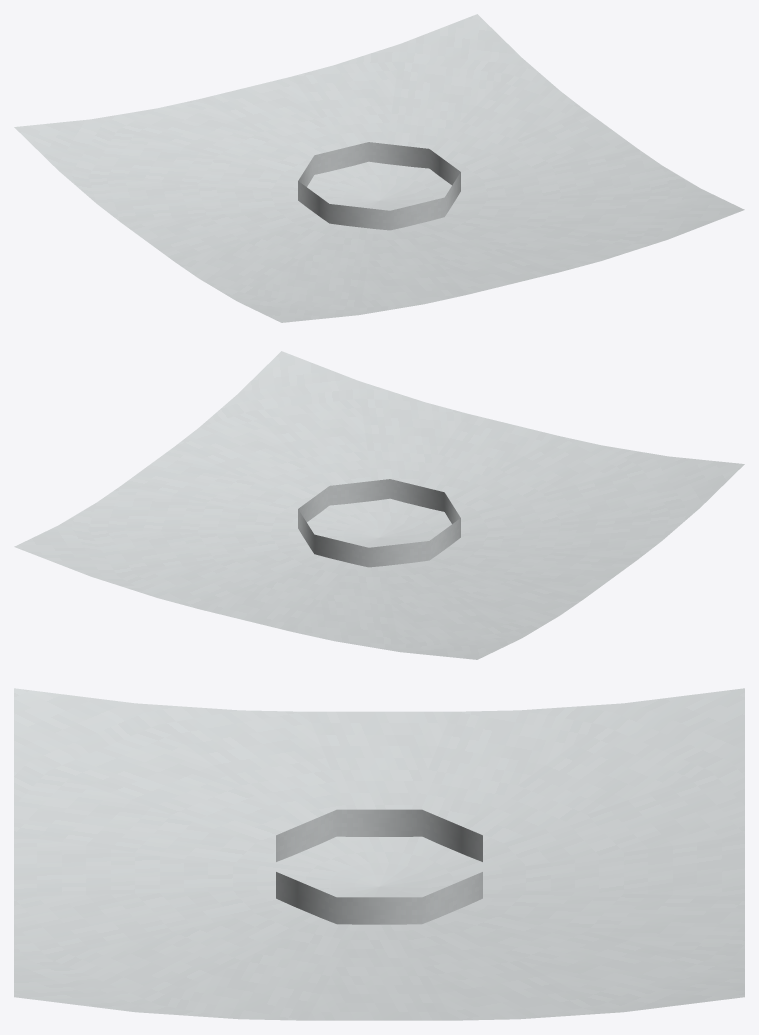
The model's file is bowl_medium_0_2_2.obj.
The picture shows the model from 3 angles, top to bottom: view 1: azimuth 30°, elevation 25°; view 2: azimuth 150°, elevation 25°; view 3: azimuth 270°, elevation 25°; orthographic projection. The views are drawn at different scales.
Visible parts, largest first — view 1: bowl_medium_0_2_2; view 2: bowl_medium_0_2_2; view 3: bowl_medium_0_2_2.
Boxes of the visible parts, left/top/right/bottom form: bowl_medium_0_2_2: left=14, top=14, right=744, bottom=322; bowl_medium_0_2_2: left=14, top=351, right=744, bottom=659; bowl_medium_0_2_2: left=14, top=688, right=744, bottom=1020.
Bounding box in the file's own units: 3 × 0.3614 × 3.
